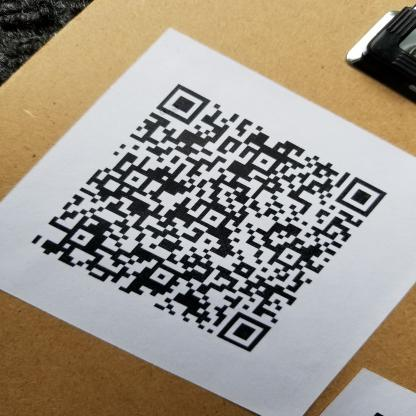qr: (28, 80, 392, 362)
